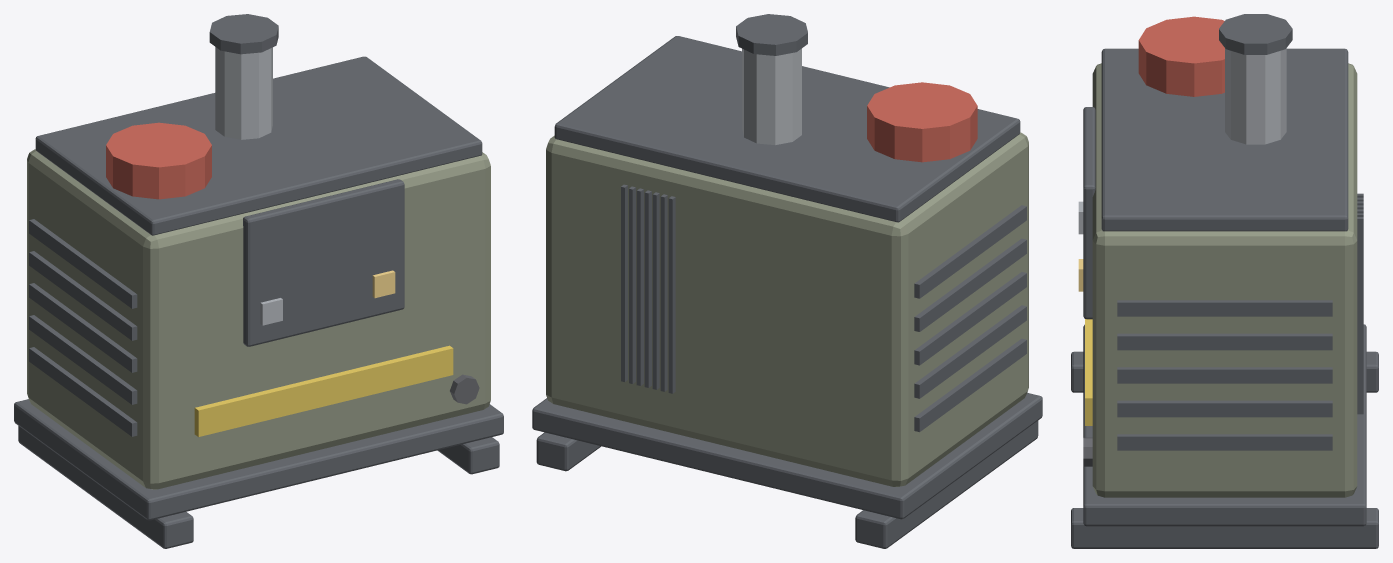
Rendered from obj_generator.fbx.
3 renders of one model, left to right at view 1: azimuth 30°, elevation 25°; view 2: azimuth 150°, elevation 25°; view 3: azimuth 270°, elevation 25°, orthographic. The views are drawn at different scales.
Parts seen in each view (by area): view 1: obj_generator; view 2: obj_generator; view 3: obj_generator.
Part boxes in pixels (x1,y1,x2,y2): obj_generator: [14, 14, 503, 548]; obj_generator: [532, 14, 1042, 548]; obj_generator: [1071, 14, 1378, 548].
Bounding box in the file's own units: 1.4 × 1.56 × 1.
